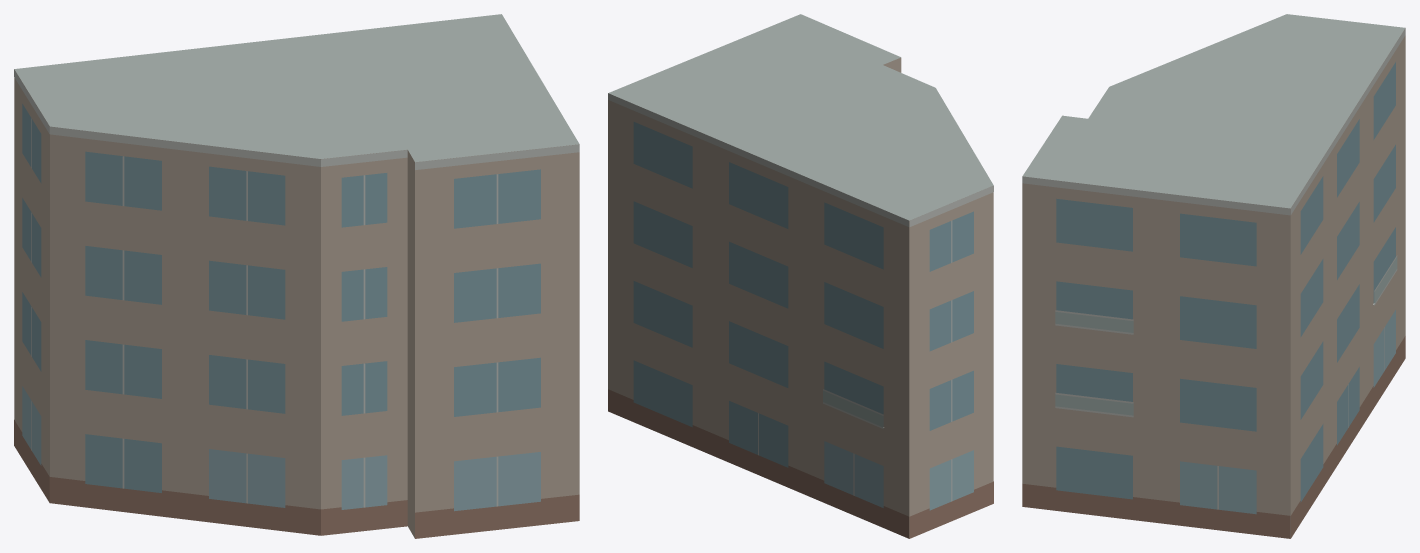
Rendered from survey-upis-32653159.glb.
The picture shows the model from 3 angles, left to right: view 1: azimuth 30°, elevation 25°; view 2: azimuth 150°, elevation 25°; view 3: azimuth 270°, elevation 25°; orthographic projection. The views are drawn at different scales.
Parts seen in each view (by area): view 1: survey-upis-32653159.tmp; view 2: survey-upis-32653159.tmp; view 3: survey-upis-32653159.tmp.
Boxes of the visible parts, x1,y1,x2,y2 form: survey-upis-32653159.tmp: [14, 14, 579, 538]; survey-upis-32653159.tmp: [608, 14, 993, 538]; survey-upis-32653159.tmp: [1022, 14, 1405, 538].
Bounding box in the file's own units: 14.65 × 11.6 × 12.21.
